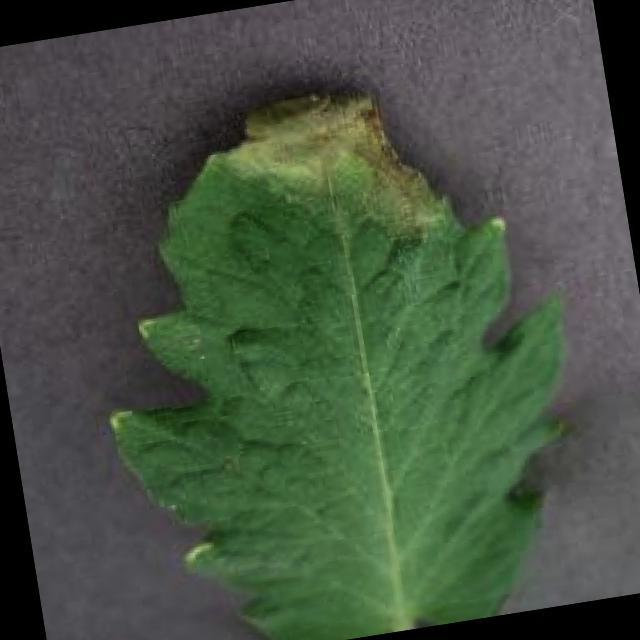Tomato late blight leaf: (56, 41, 617, 640)
